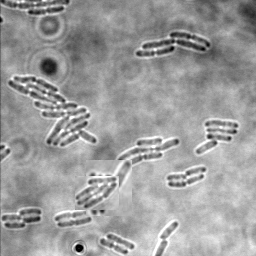Dividing: (167, 175, 204, 189), (99, 238, 128, 255), (54, 209, 90, 222), (56, 217, 92, 228), (27, 7, 64, 17)
Microcolony: (7, 76, 98, 147), (86, 160, 132, 216), (117, 137, 180, 168), (135, 32, 211, 57), (195, 120, 238, 155), (75, 176, 119, 210), (1, 208, 42, 229)
Rod: (106, 233, 135, 251), (157, 222, 178, 240), (184, 167, 206, 177), (166, 174, 187, 183)
